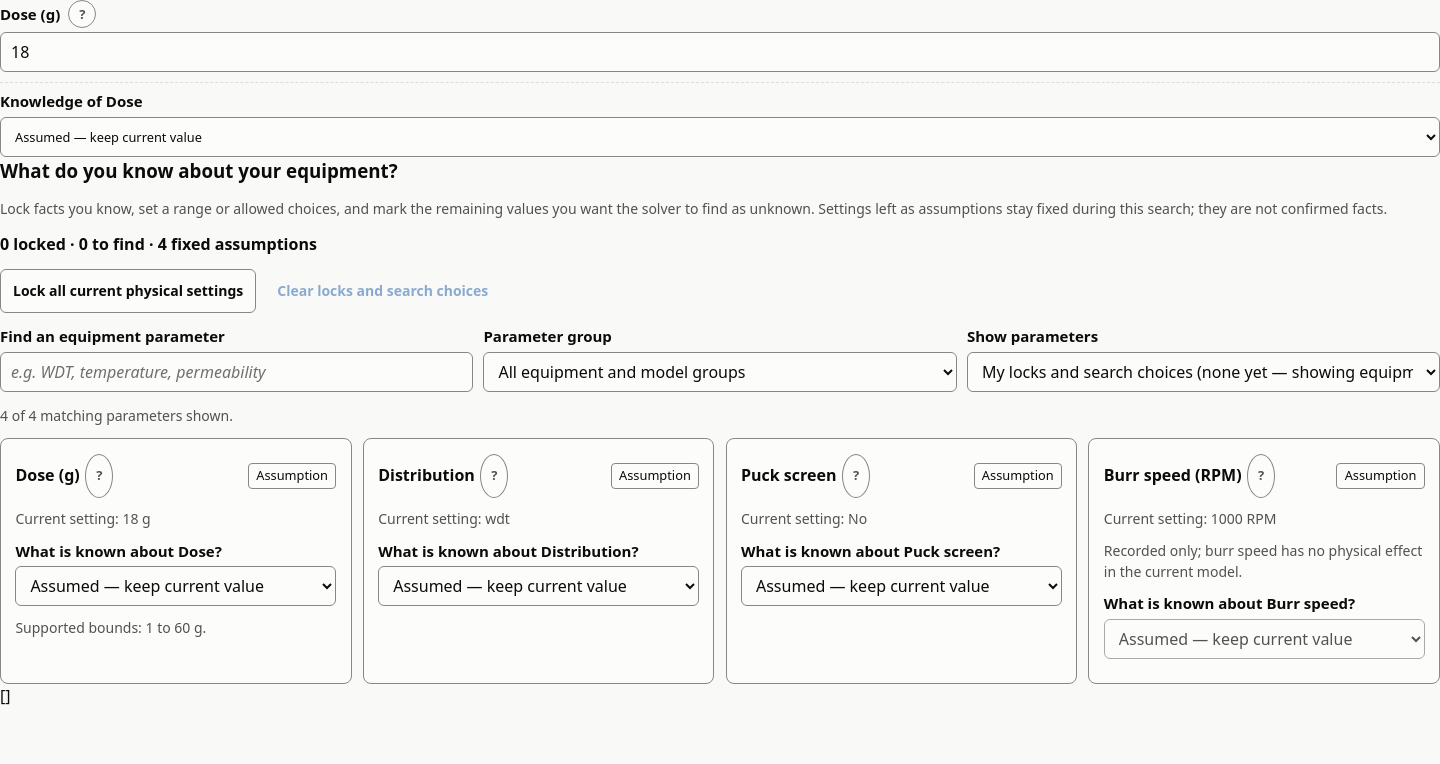
Test: equipment knowledge controls › opens and focuses the matching detailed constraint from an inline range control
Select "Known range" in the dropdown labelled "Knowledge of Dose" at point(720, 137), box [0,117,1439,157]
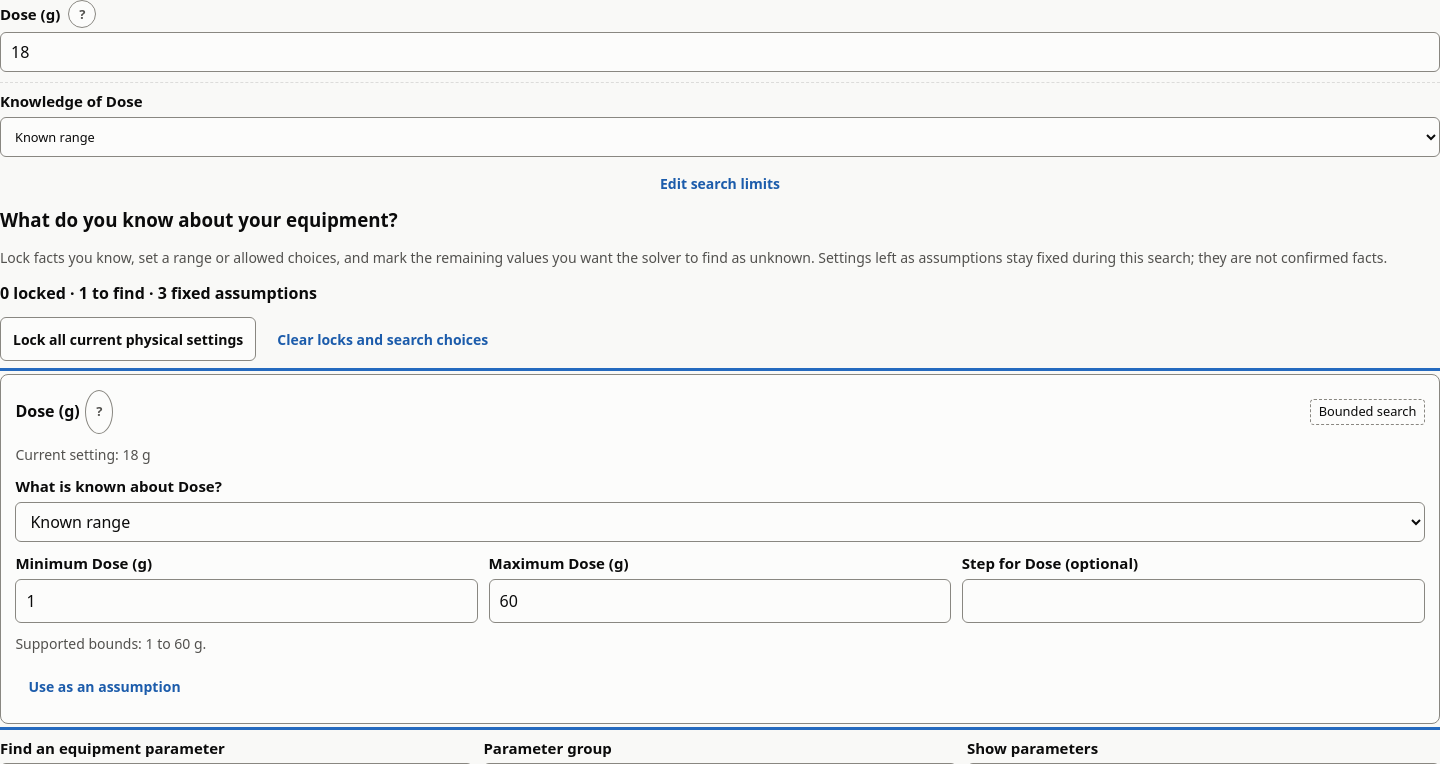
Expected: the number of number fields labelled "Minimum Dose (g)" is 1, [15,579,478,623]
Select "Known — lock exactly" in the dropdown labelled "What is known about Dose?" at point(720, 522), box [15,502,1425,542]
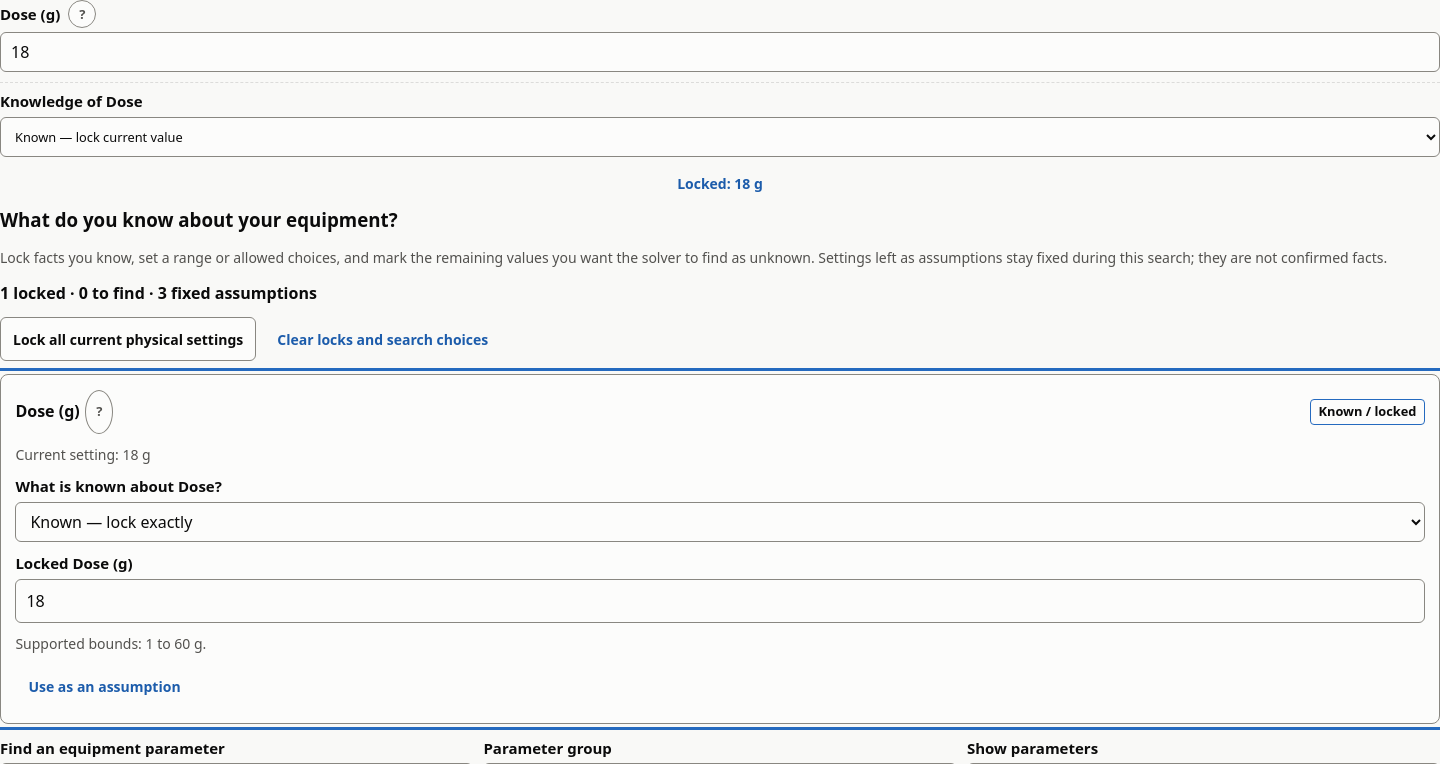
Replace the text in the number field labelled "Locked Dose (g)" with "19" at point(720, 601), box [15,579,1425,623]
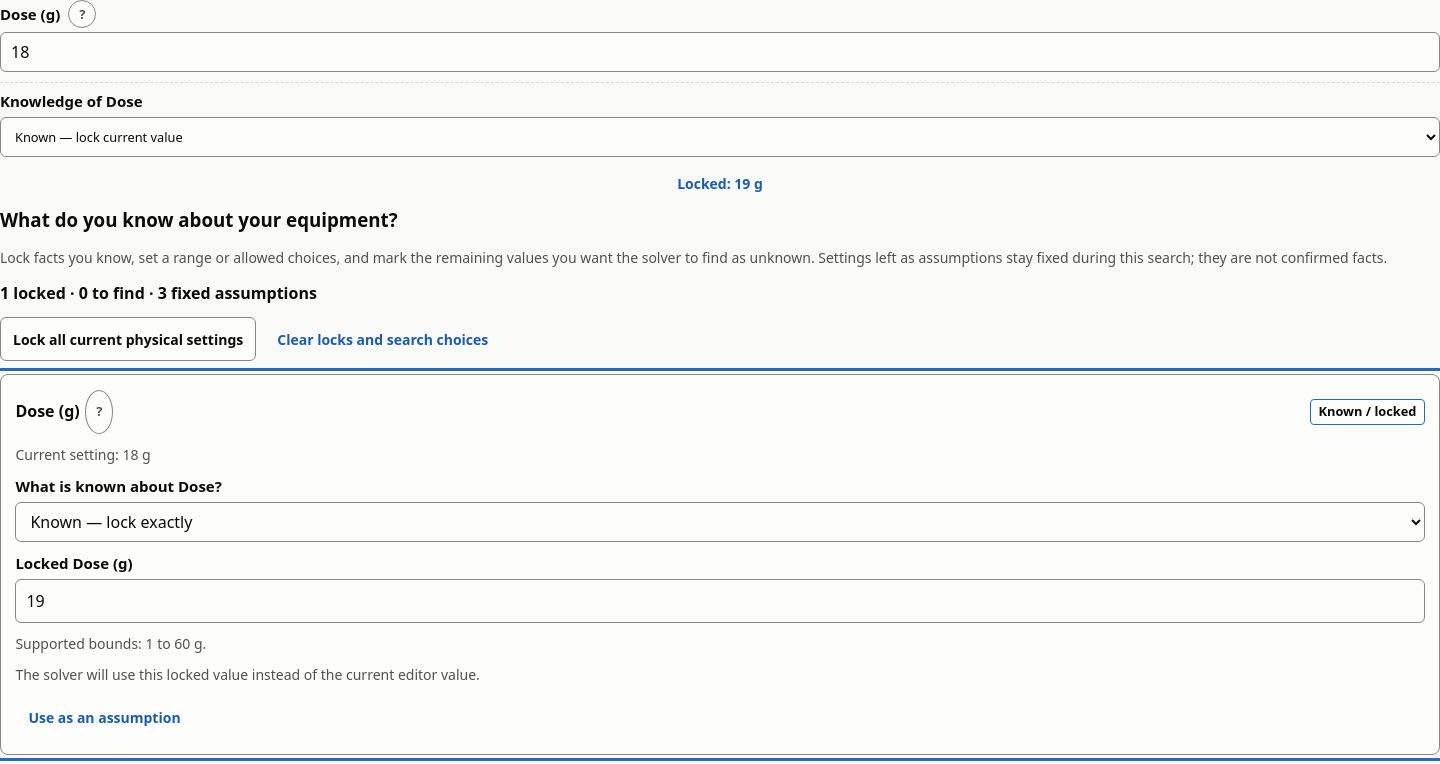
Expected: the button with aria-label "Locked: 19 g. Edit constraint for Dose" reads "Locked: 19 g", [0,162,1439,206]
Expected: the text "The solver will use this locked value instead of the current editor value." is shown, [15,666,480,684]
